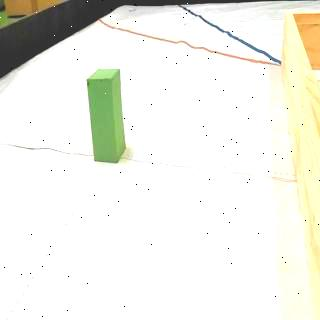greenbox: (85, 68, 128, 162)
